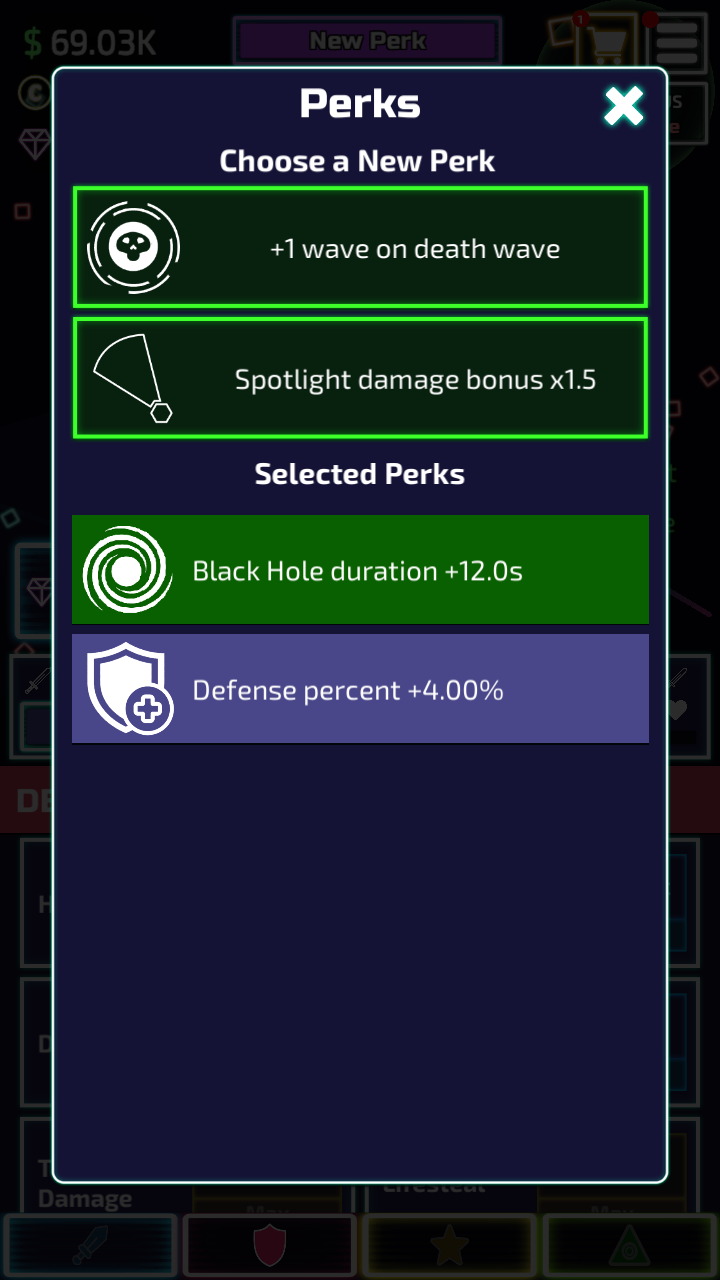B_Menu_Closed: (644, 17, 704, 66)
B_Tab_Defense: (667, 767, 720, 835)
